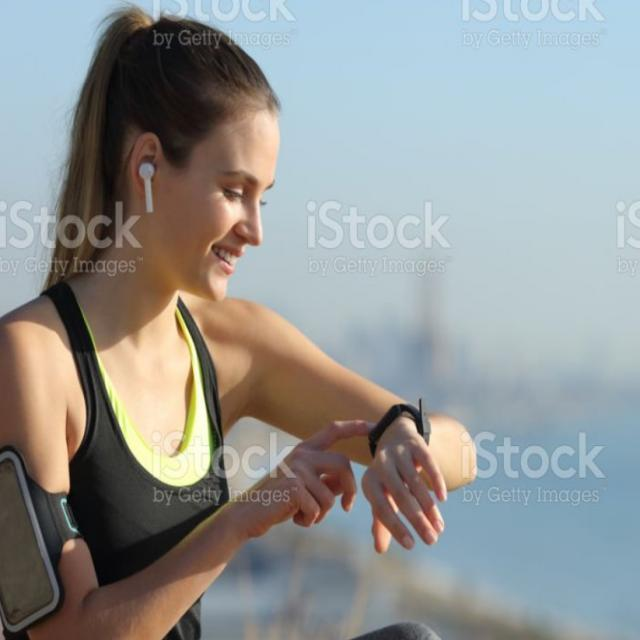Watch: (361, 394, 429, 448)
